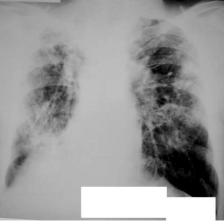tuberculosis: (0, 0, 222, 222)
